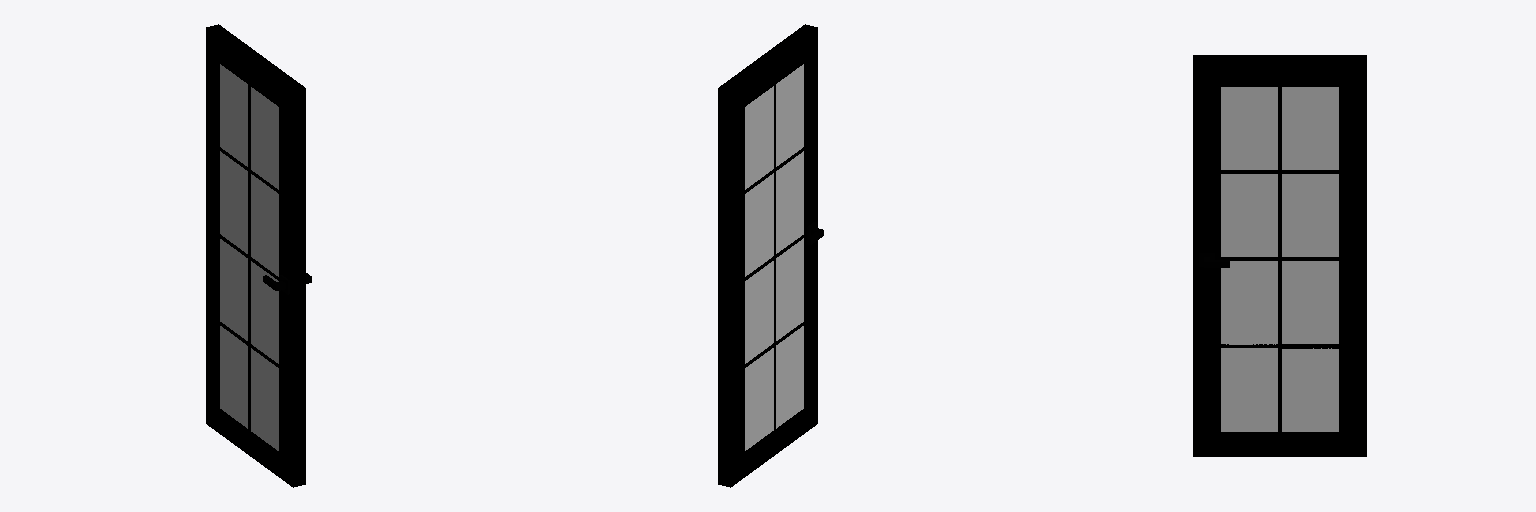
Rendered from door802_black.obj.
The picture shows the model from 3 angles: view 1: azimuth 30°, elevation 25°; view 2: azimuth 150°, elevation 25°; view 3: azimuth 270°, elevation 25°; orthographic projection.
Parts seen in each view (by area): view 1: Cube; view 2: Cube; view 3: Cube.
Boxes of the visible parts, <box> form: Cube: <box>206,24,311,487</box>; Cube: <box>718,24,823,487</box>; Cube: <box>1193,55,1366,456</box>.
Bounding box in the file's own units: 0.1899 × 2 × 0.7997.